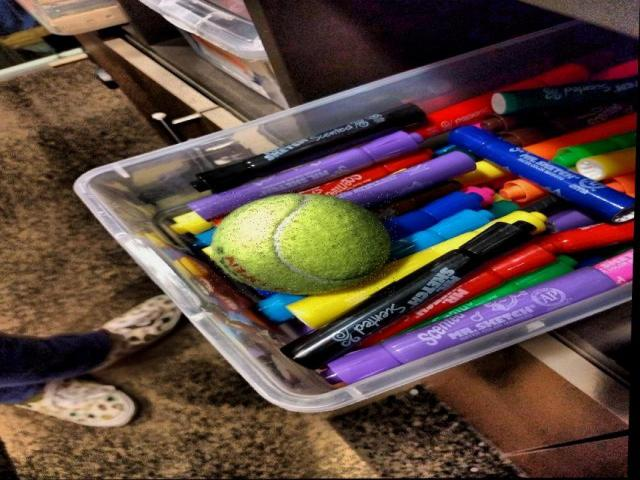tennis-ball: (211, 191, 392, 297)
